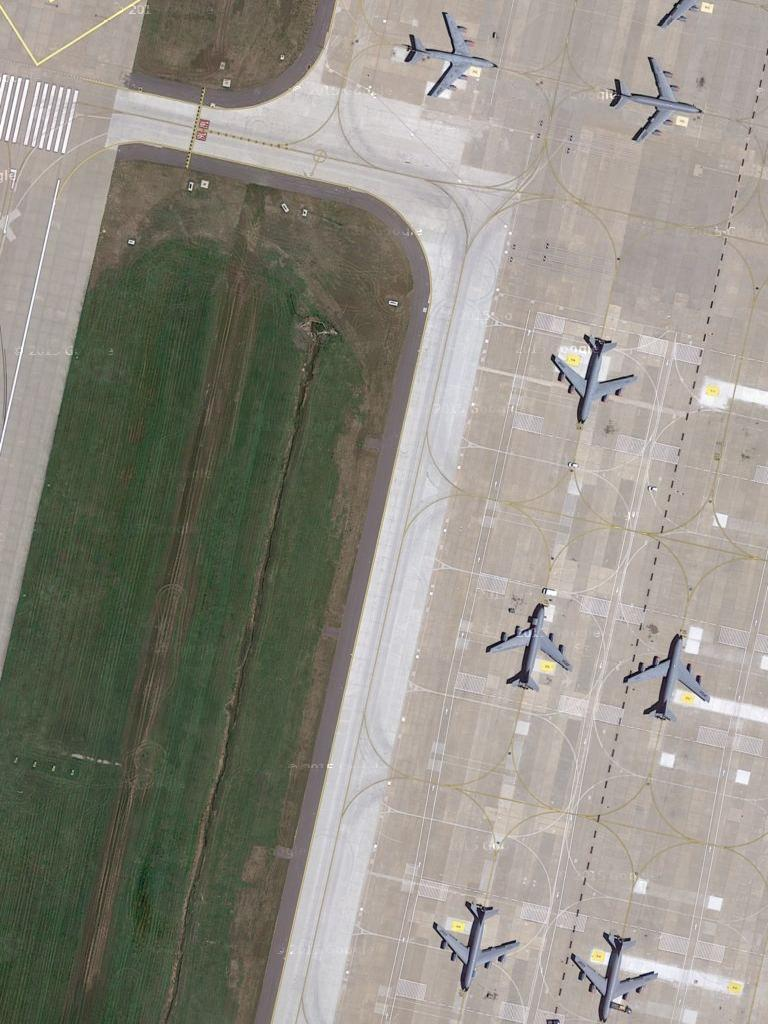KC-135: (602, 46, 703, 145), (427, 892, 520, 997), (544, 331, 642, 430), (394, 5, 496, 100), (623, 628, 717, 726), (565, 928, 660, 1021), (485, 595, 574, 694)
